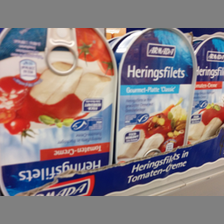fish: (1, 29, 116, 198), (115, 29, 197, 162), (193, 33, 224, 151)
